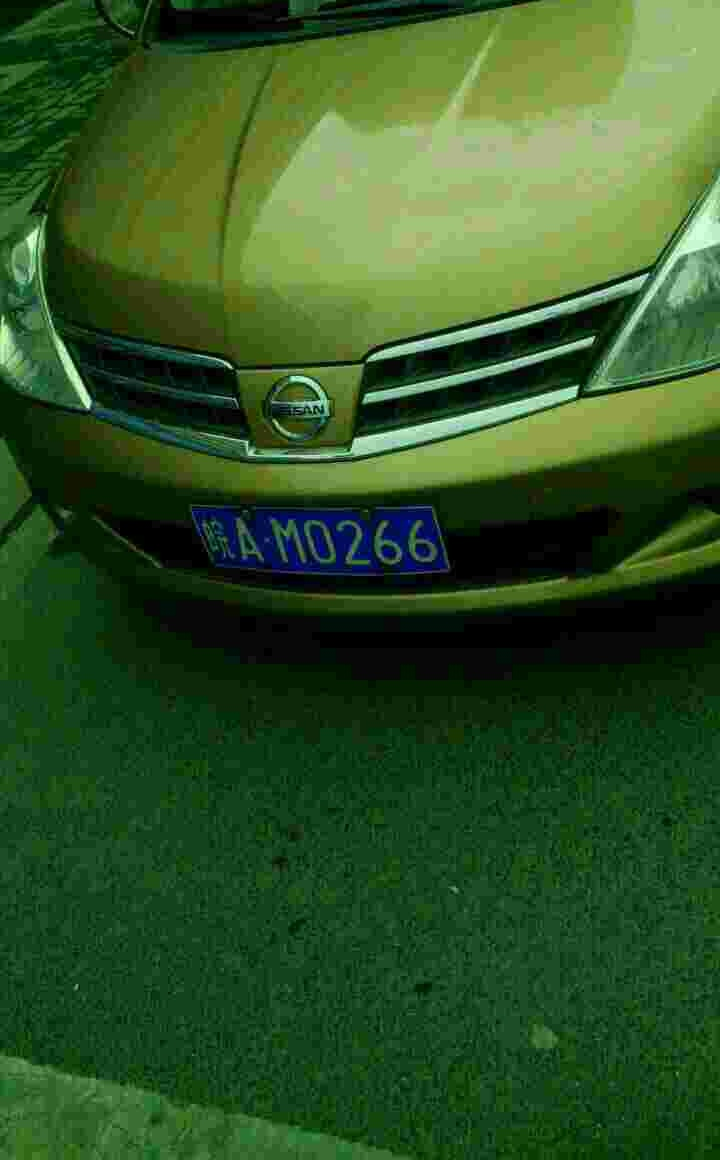plate: (182, 502, 458, 580)
